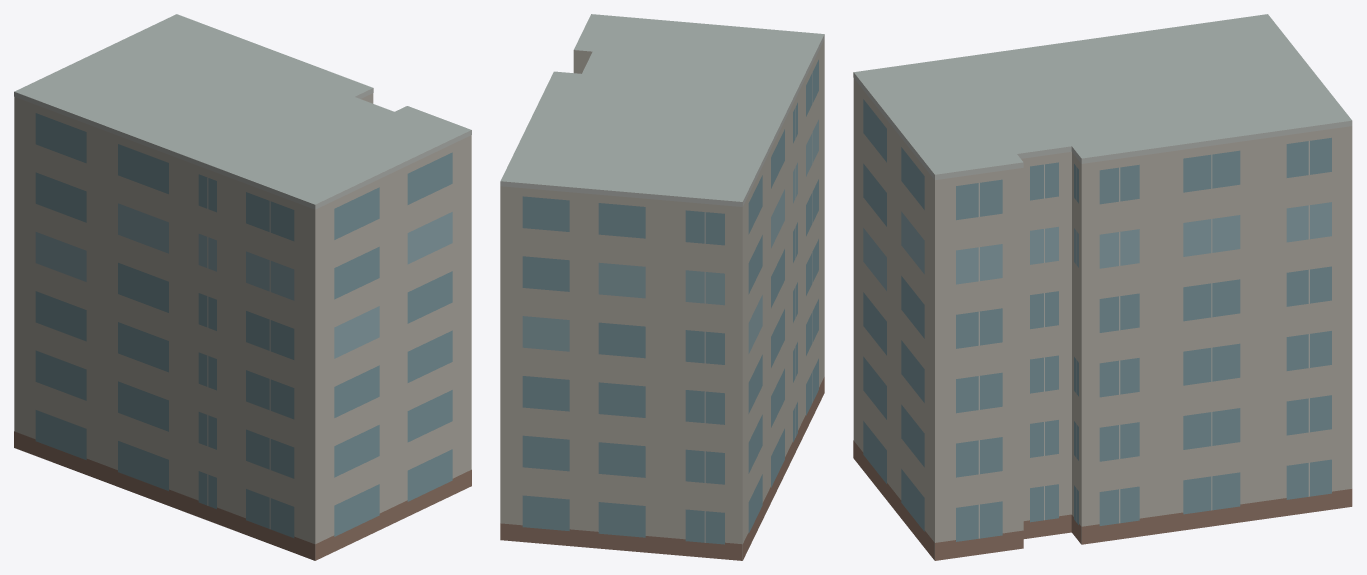
The model's file is survey-upis-32671250.glb.
3 renders of one model, left to right at view 1: azimuth 30°, elevation 25°; view 2: azimuth 150°, elevation 25°; view 3: azimuth 270°, elevation 25°, orthographic. The views are drawn at different scales.
Parts seen in each view (by area): view 1: survey-upis-32671250.tmp; view 2: survey-upis-32671250.tmp; view 3: survey-upis-32671250.tmp.
Part boxes in pixels (left/top/right/bottom): survey-upis-32671250.tmp: left=14, top=14, right=471, bottom=560; survey-upis-32671250.tmp: left=500, top=14, right=824, bottom=560; survey-upis-32671250.tmp: left=853, top=14, right=1352, bottom=560.
Bounding box in the file's own units: 15.55 × 17.4 × 20.38.
